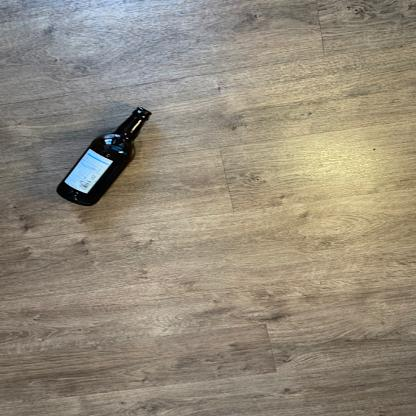trash: (54, 104, 154, 210)
